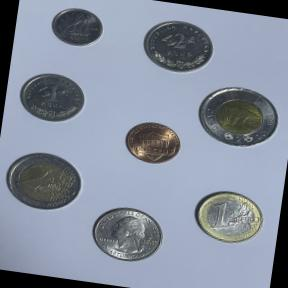coin: (189, 78, 286, 158), (0, 142, 90, 220), (85, 200, 169, 268), (186, 183, 268, 252), (136, 13, 218, 82), (119, 115, 186, 173), (46, 2, 110, 54)
